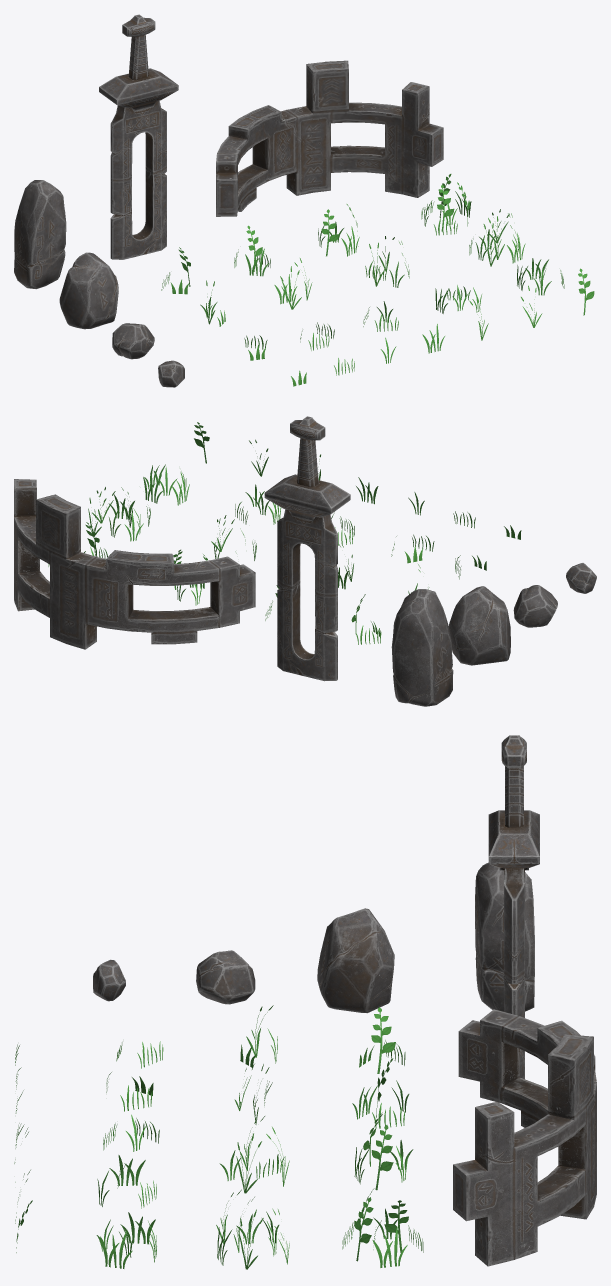
File: Env.fbx
3 renders of one model, top to bottom at view 1: azimuth 30°, elevation 25°; view 2: azimuth 150°, elevation 25°; view 3: azimuth 270°, elevation 25°, orthographic. The views are drawn at different scales.
Visible parts, largest first — view 1: model_1, model_1.001, model_2.001, model_2.002, model_2.003, model_0.009, model_0.008, model_2, model_0.028, model_0.036, model_0.017; view 2: model_1, model_1.001, model_2.001, model_2.002, model_2.003, model_0.008, model_0.022, model_2, model_0.032; view 3: model_1, model_1.001, model_2.002, model_2.001, model_2.003, model_0.009, model_0.008, model_0.028, model_0.022, model_2, model_0.017, model_0.036 (+2 smaller).
Part boxes in pixels (x1,y1,x2,y2): model_1: [216, 60, 443, 216]; model_1.001: [99, 14, 178, 259]; model_2.001: [14, 180, 66, 289]; model_2.002: [59, 252, 118, 329]; model_2.003: [112, 323, 154, 359]; model_0.009: [421, 174, 471, 235]; model_0.008: [469, 209, 525, 266]; model_2: [158, 360, 184, 387]; model_0.028: [318, 204, 359, 256]; model_0.036: [234, 225, 270, 276]; model_0.017: [365, 236, 409, 287]; model_1: [14, 479, 255, 649]; model_1.001: [264, 416, 350, 681]; model_2.001: [391, 589, 453, 706]; model_2.002: [448, 586, 510, 665]; model_2.003: [513, 585, 557, 627]; model_0.008: [88, 487, 150, 541]; model_0.022: [143, 464, 189, 505]; model_2: [566, 563, 596, 593]; model_0.032: [235, 484, 281, 524]; model_1: [453, 1009, 596, 1266]; model_1.001: [488, 735, 539, 1079]; model_2.002: [317, 908, 394, 1013]; model_2.001: [475, 862, 534, 1011]; model_2.003: [196, 950, 255, 1004]; model_0.009: [342, 1188, 423, 1267]; model_0.008: [216, 1189, 289, 1269]; model_0.028: [354, 1112, 413, 1190]; model_0.022: [96, 1212, 156, 1268]; model_2: [93, 959, 125, 1001]; model_0.017: [219, 1116, 289, 1193]; model_0.036: [352, 1058, 409, 1128].
Size of the model in its own units: 1099 by 588 by 927.
3 materials, 3 textured.
